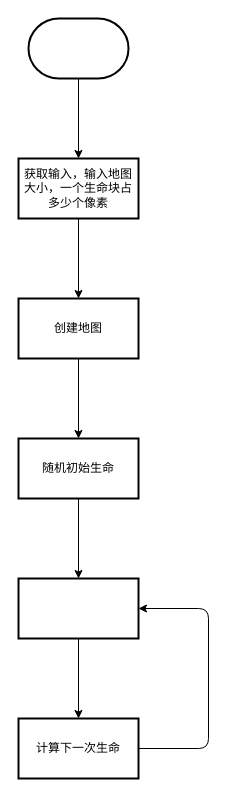
This 234x796 diagram has some shape labels left out. The box of each missing label's shape, as (x1, y1, x2, y2) in pixels:
开始: (27, 17, 129, 79)
显示当前生命: (17, 577, 139, 639)
